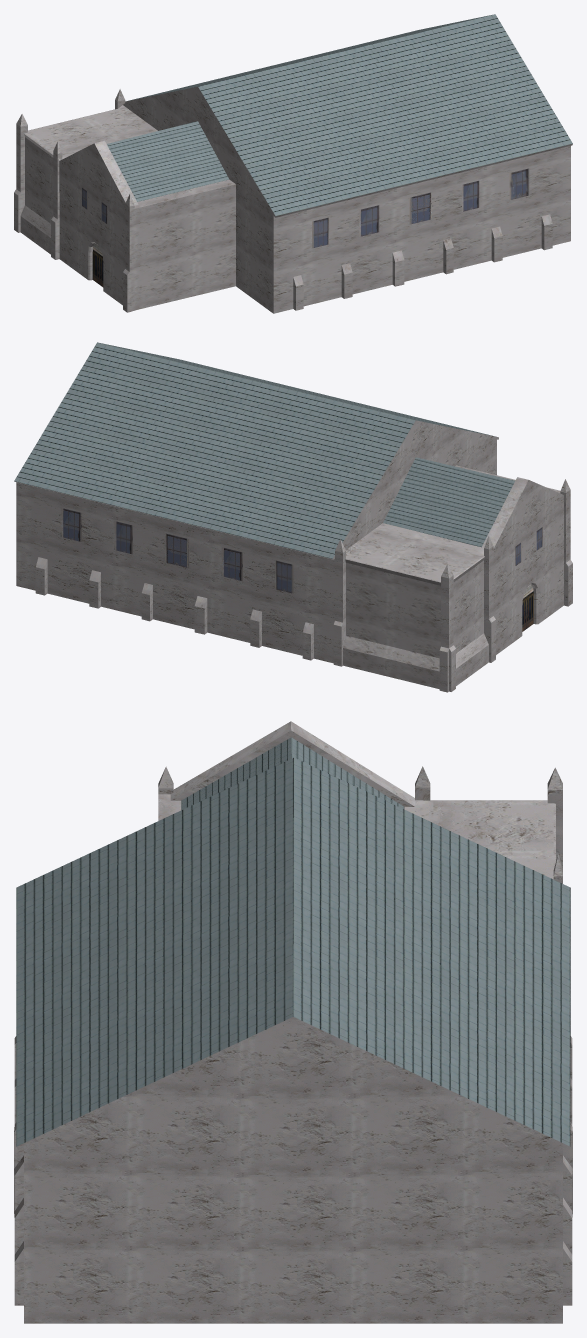
Rendered from mis1_lan.obj.
The picture shows the model from 3 angles, top to bottom: view 1: azimuth 30°, elevation 25°; view 2: azimuth 150°, elevation 25°; view 3: azimuth 270°, elevation 25°; orthographic projection. The views are drawn at different scales.
Parts seen in each view (by area): view 1: mis1_LAn; view 2: mis1_LAn; view 3: mis1_LAn.
Boxes of the visible parts, box(x1,y1,x2,y2) form: mis1_LAn: box(14, 14, 572, 313); mis1_LAn: box(14, 342, 572, 692); mis1_LAn: box(14, 721, 572, 1323).
Size of the model in its own units: 54.13 by 21.9 by 36.15.
